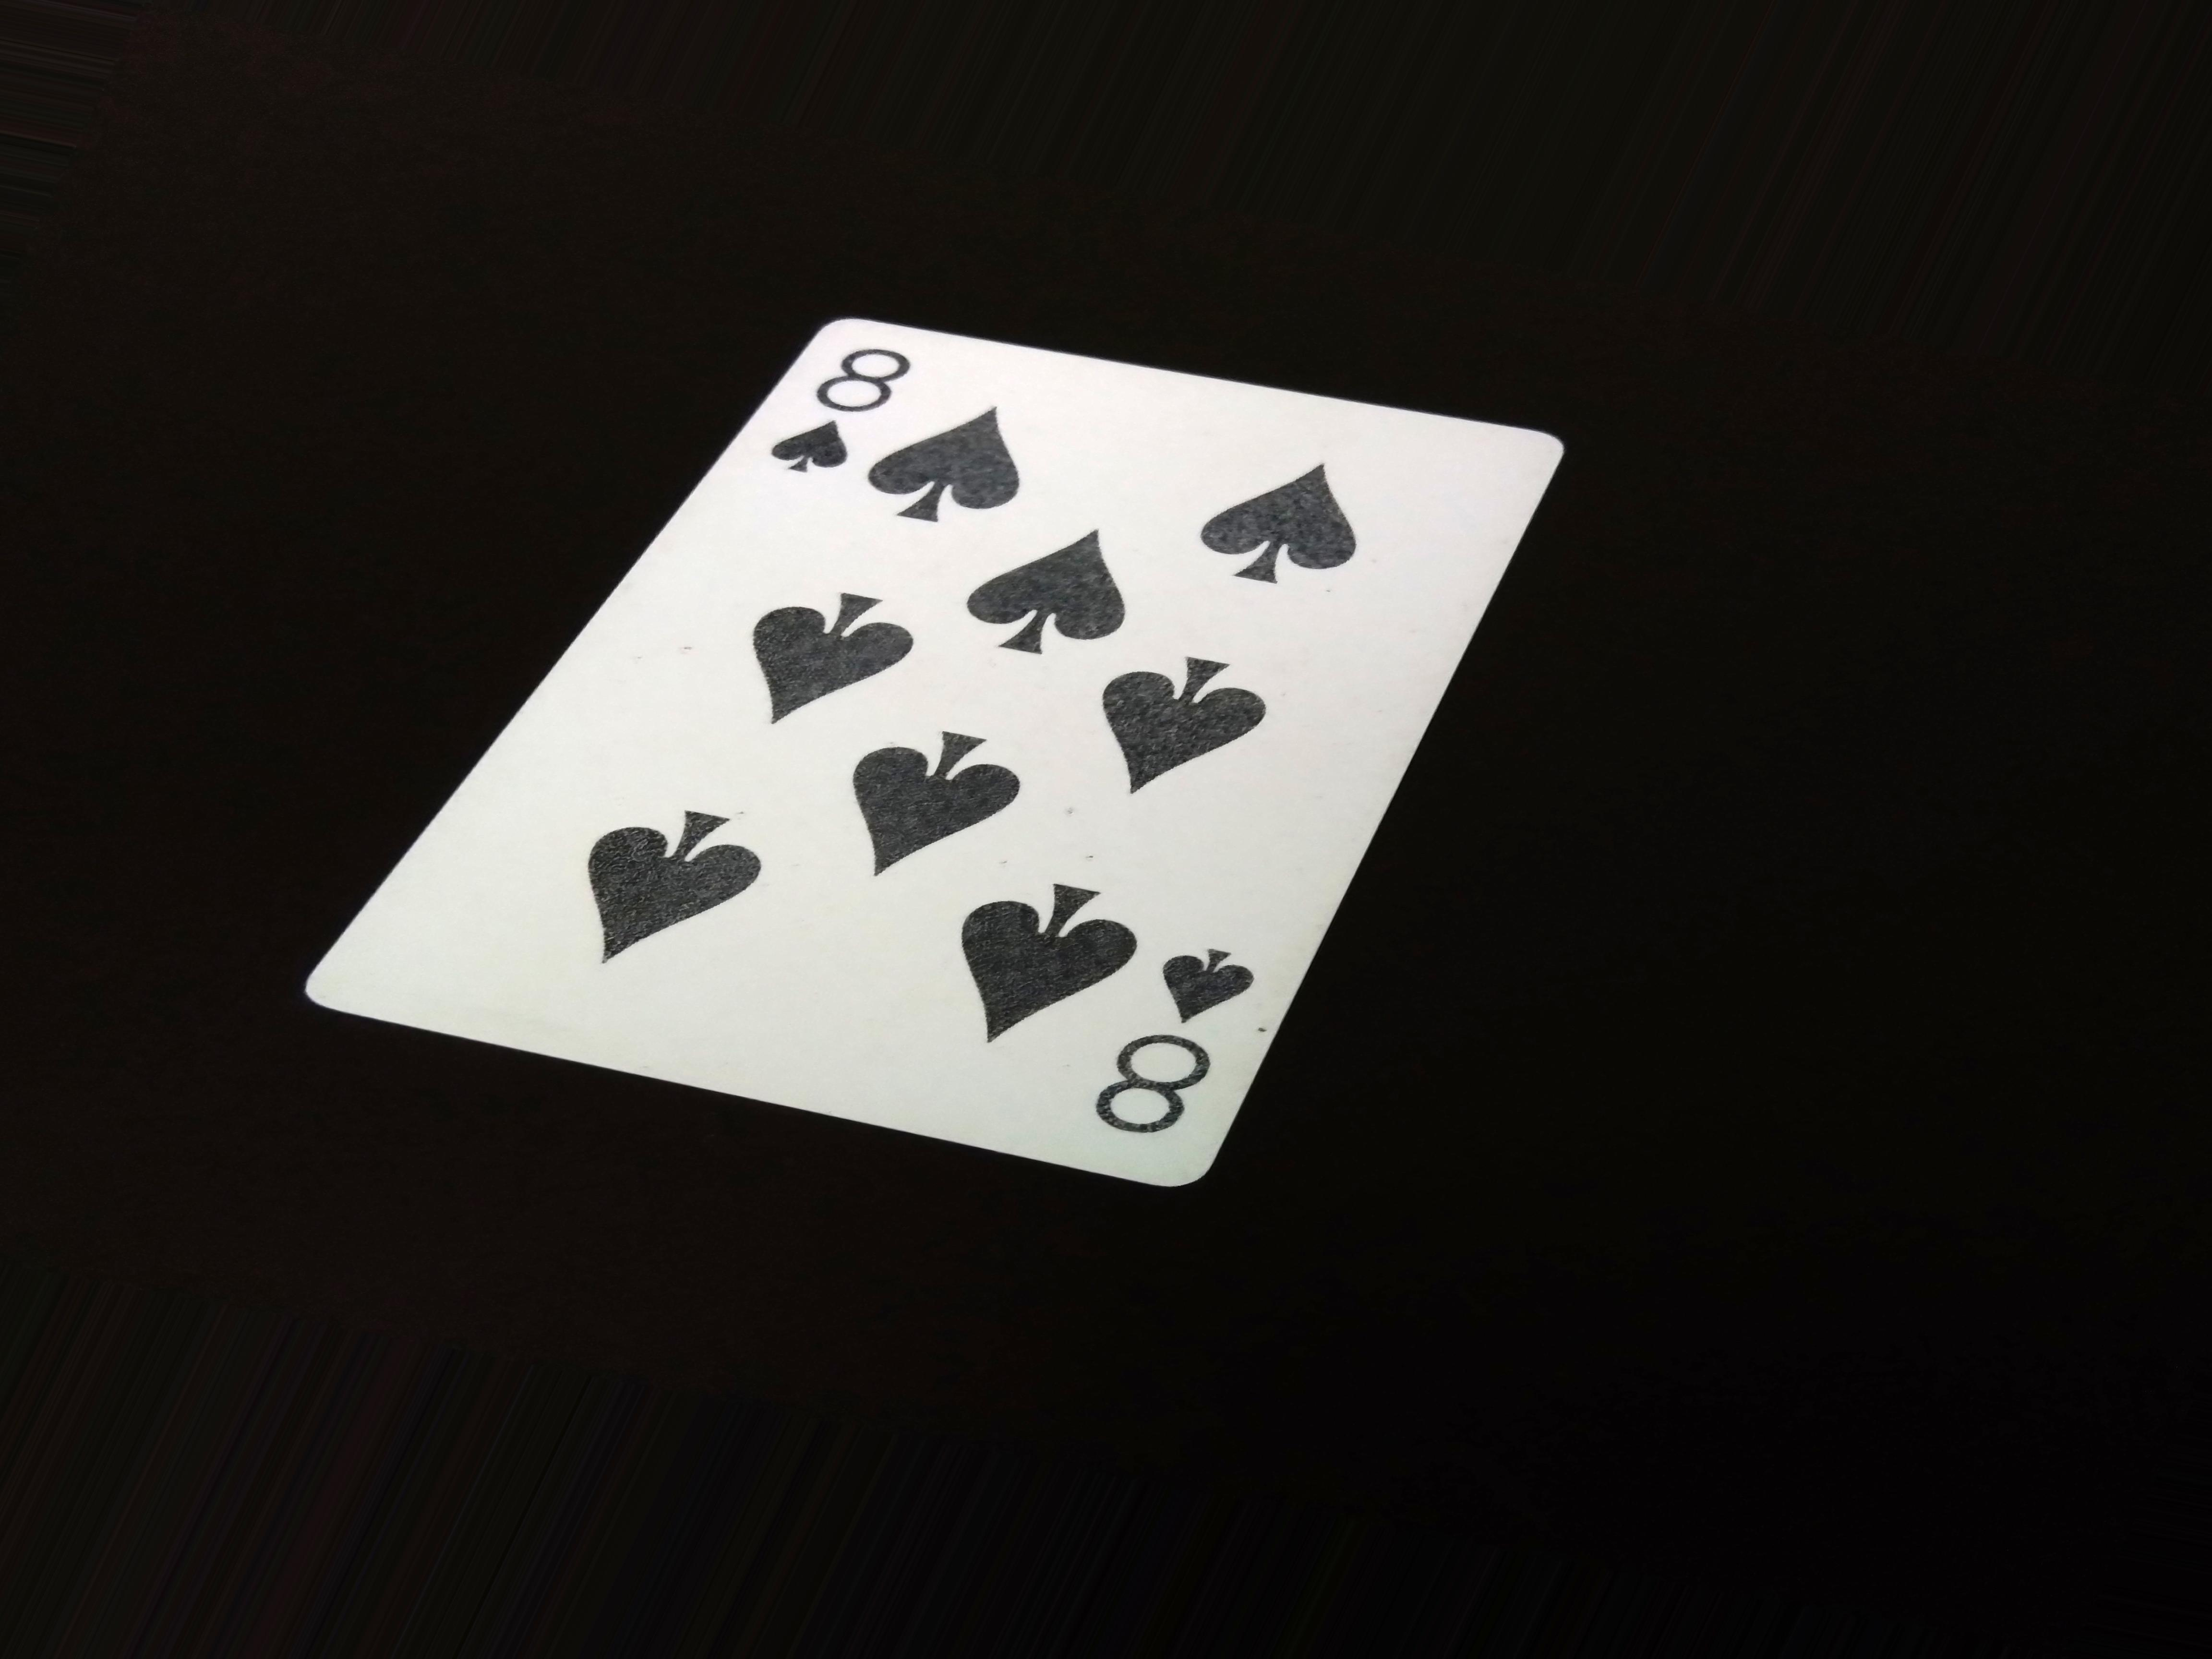8S: (770, 308, 916, 507)
